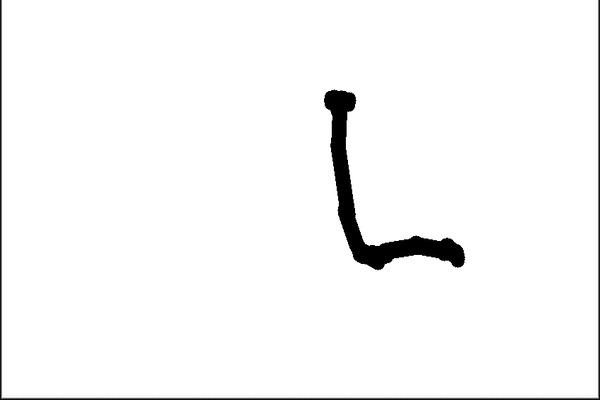L: (317, 80, 473, 283)
